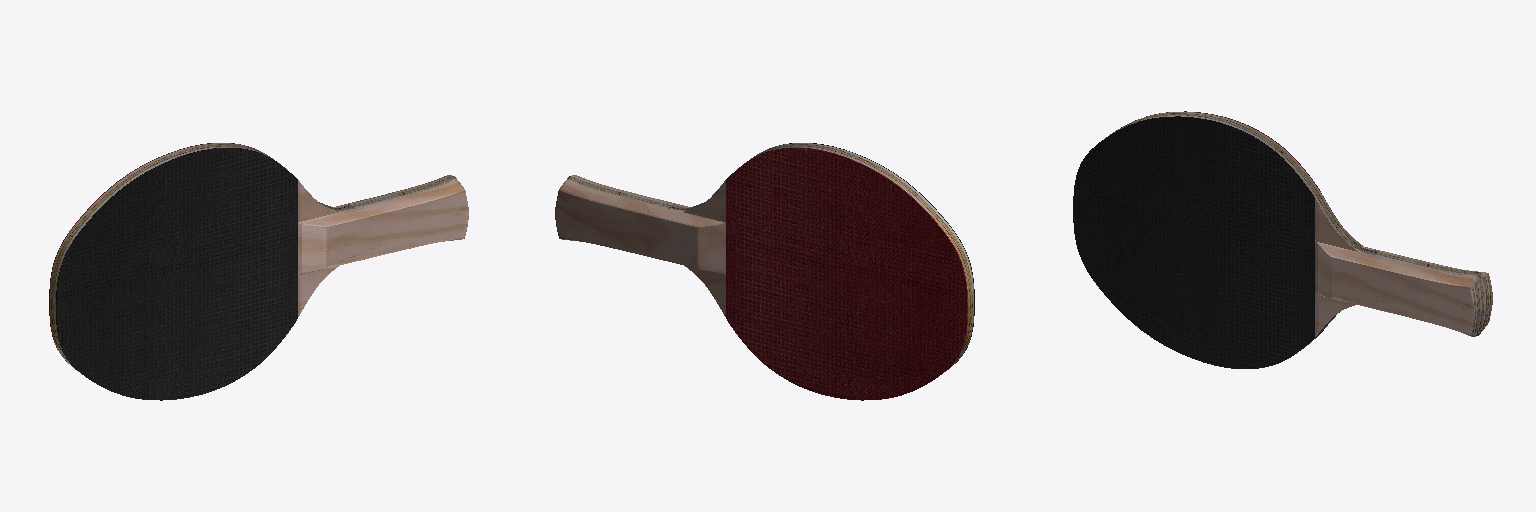
3 views of the same model, side by side, from view 1: azimuth 30°, elevation 25°; view 2: azimuth 150°, elevation 25°; view 3: azimuth 330°, elevation 25° (orthographic).
Bounding box in the file's own units: 0.1745 × 0.1001 × 0.0142.
1 materials, 1 textured.